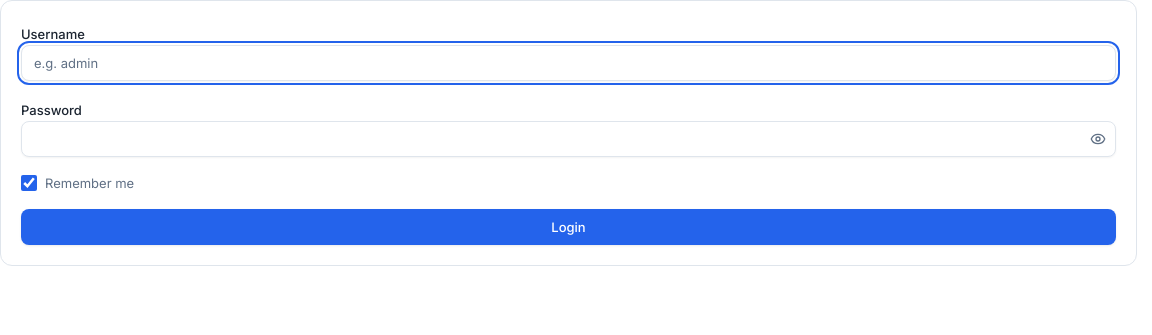
Test: LoginForm › reports a bad password without revealing whether the account exists
Type "nobody" into the field labelled "Username".
click(568, 63); type("nobody")  # box [21,45,1116,81]
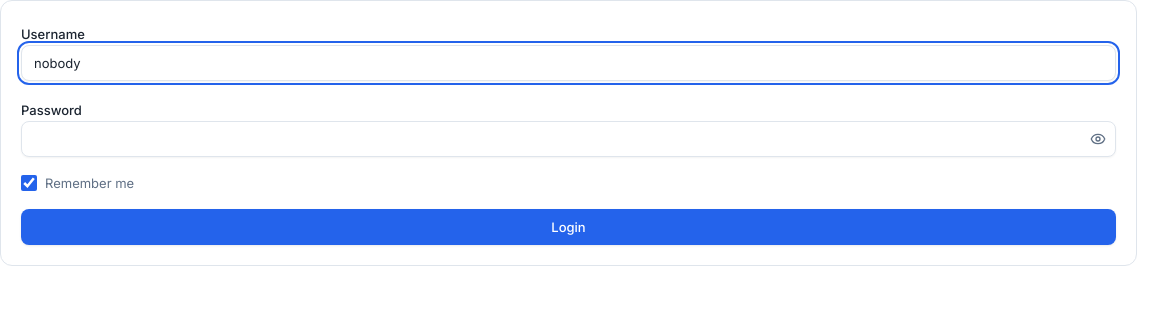
Type "wrong-password" into the password field labelled "Password".
click(568, 139); type("wrong-password")  # box [21,121,1116,157]
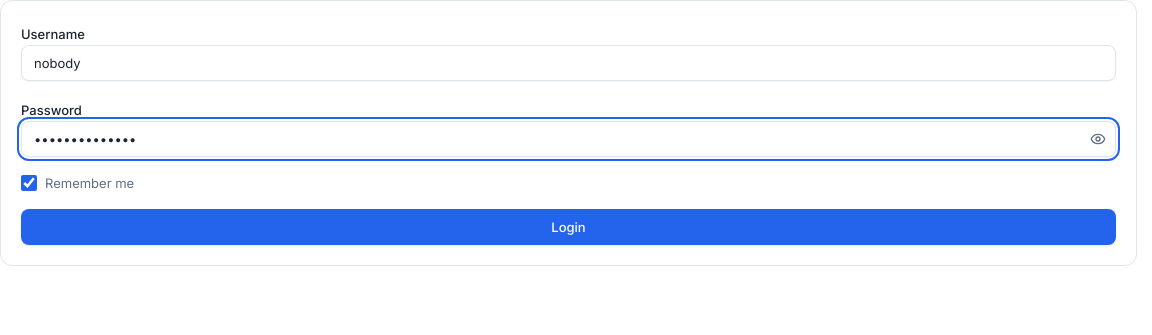
Click the button "Login".
click(568, 227)  # box [21,209,1116,245]
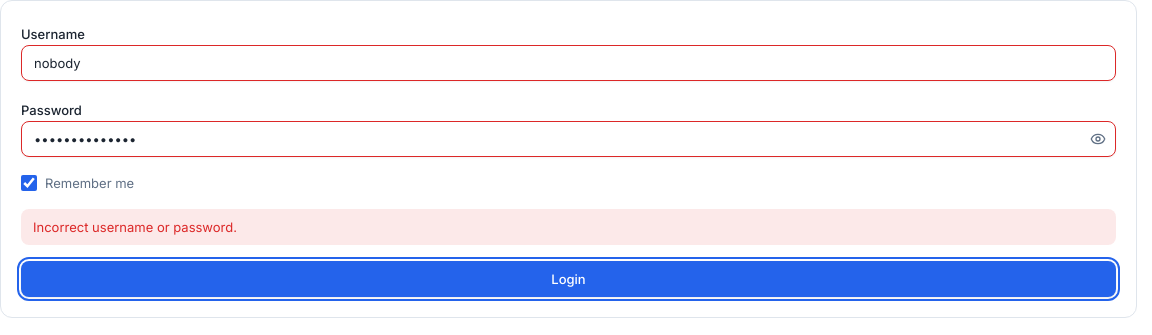
expect the message reads "Incorrect username or password.": met, box [33,219,237,235]
